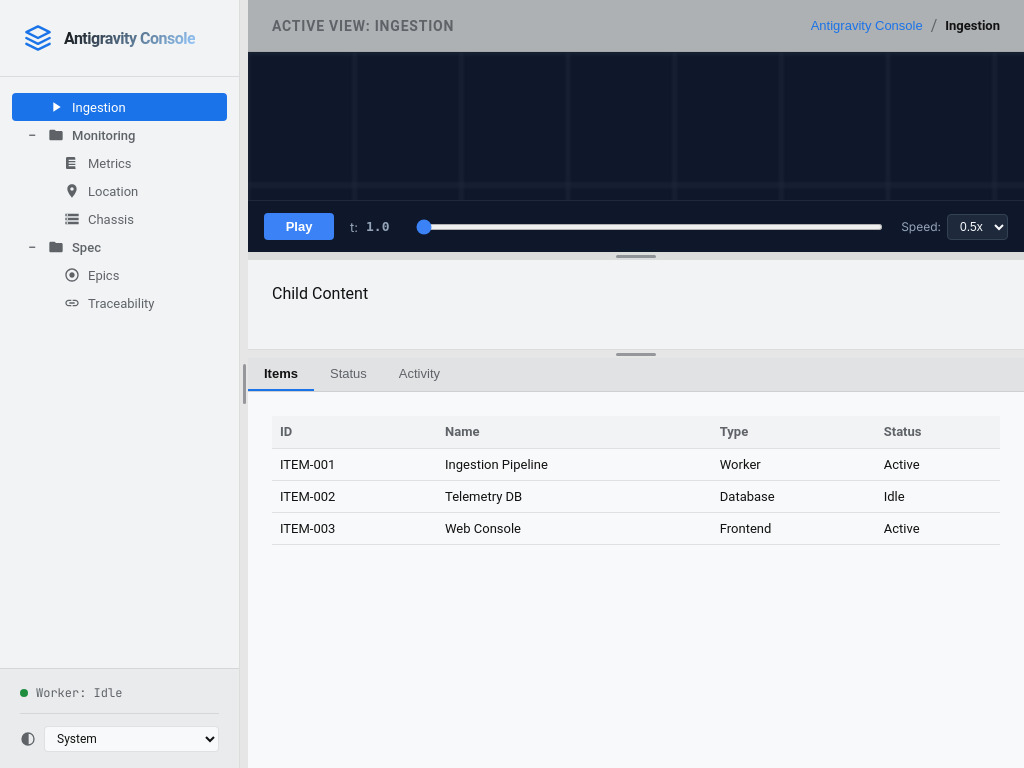
Test: UI Layout & PropertyGrid Components › verifies tab switching logic in bottom pane TabbedContainer
The image size is (1024, 768).
Expected: the table with test id "items-table" is shown, [272,416,1000,544]
# Click on Status tab
Click the tab "Status" at (348, 374), box [314,358,383,391]
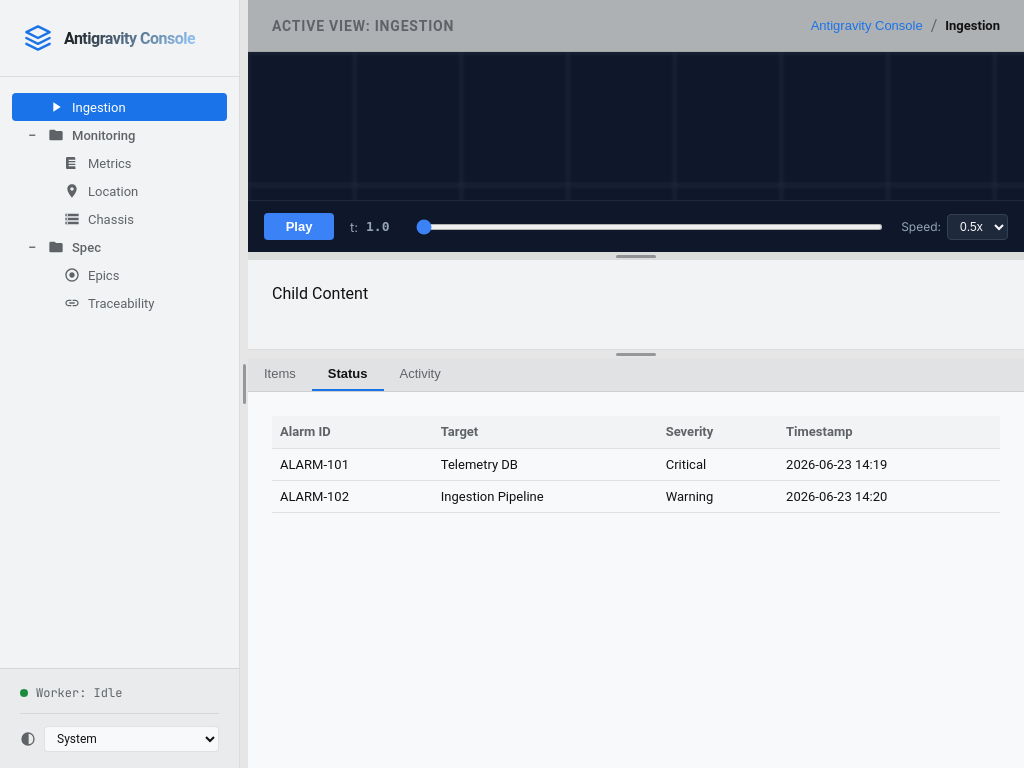
Expected: the table with test id "status-table" is shown, [272,416,1000,512]
Expected: the table with test id "items-table" is gone
# Click on Activity tab
Click the tab "Activity" at (420, 374), box [384,358,457,391]
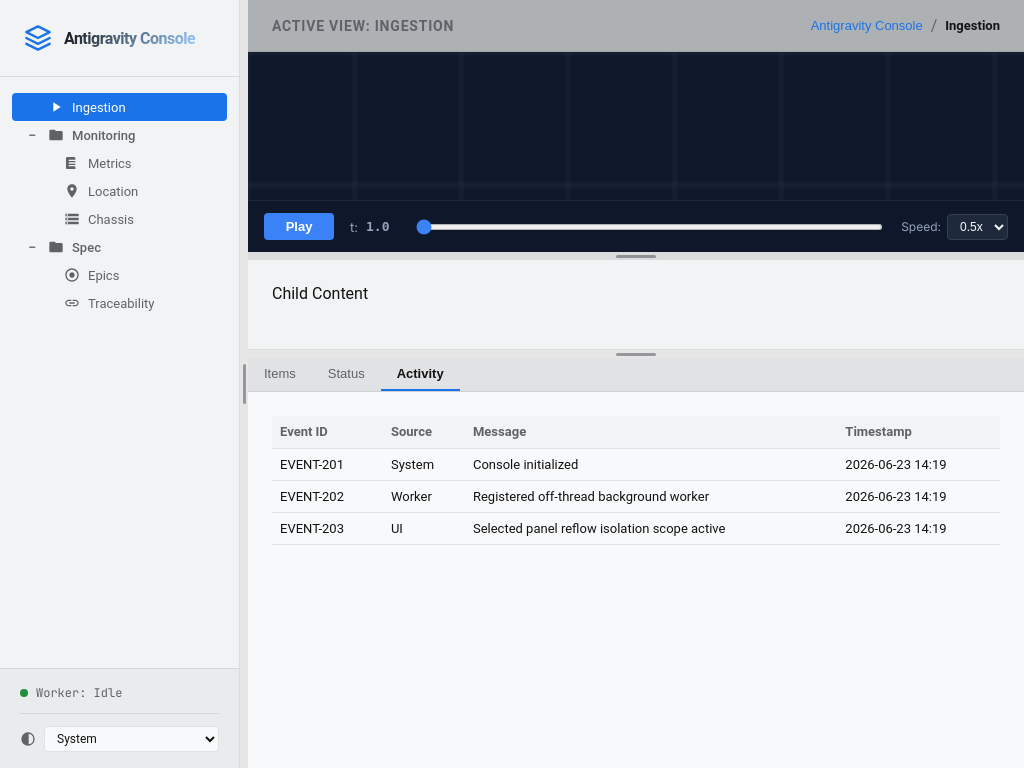
Expected: the table with test id "activity-table" is shown, [272,416,1000,544]
Expected: the table with test id "status-table" is gone
